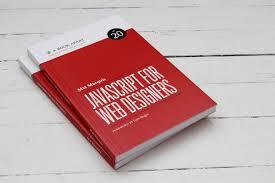Paper: (17, 14, 249, 174)
